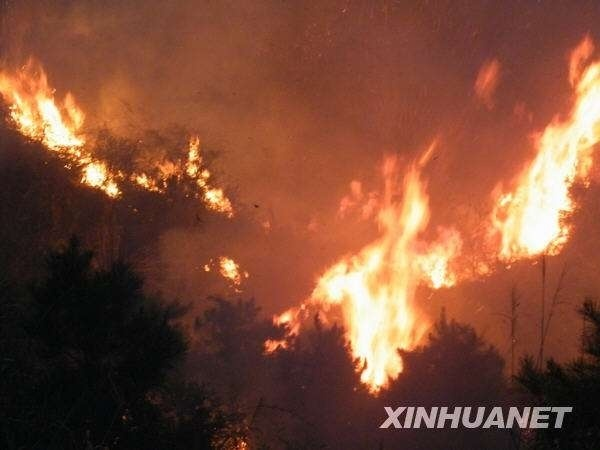fire: (270, 142, 461, 394), (486, 34, 599, 263), (199, 250, 250, 289)
